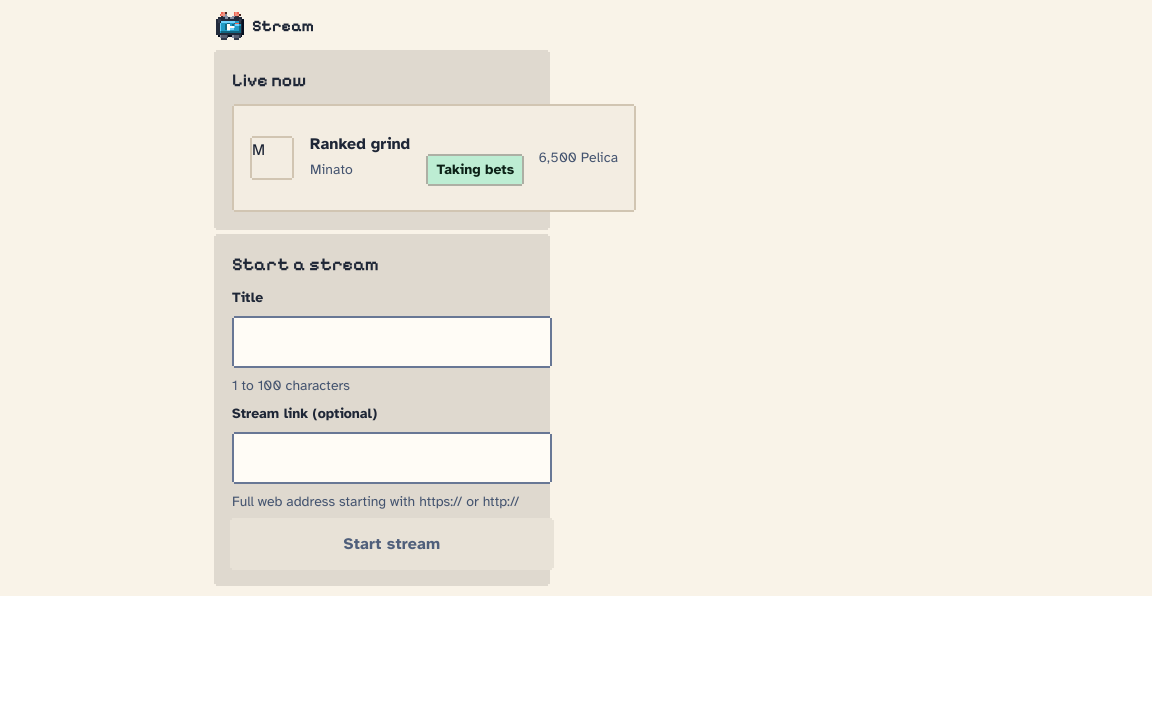
StreamScreen › shows live list, opens stream room, uses SDK openExternalLink (never window.open) and shows location
The width and height of the screenshot is (1152, 720).
Later steps or results of the test are not shown.
Click the button with class "bb-list__item": click(435, 159) x1=252 y1=134 x2=618 y2=184
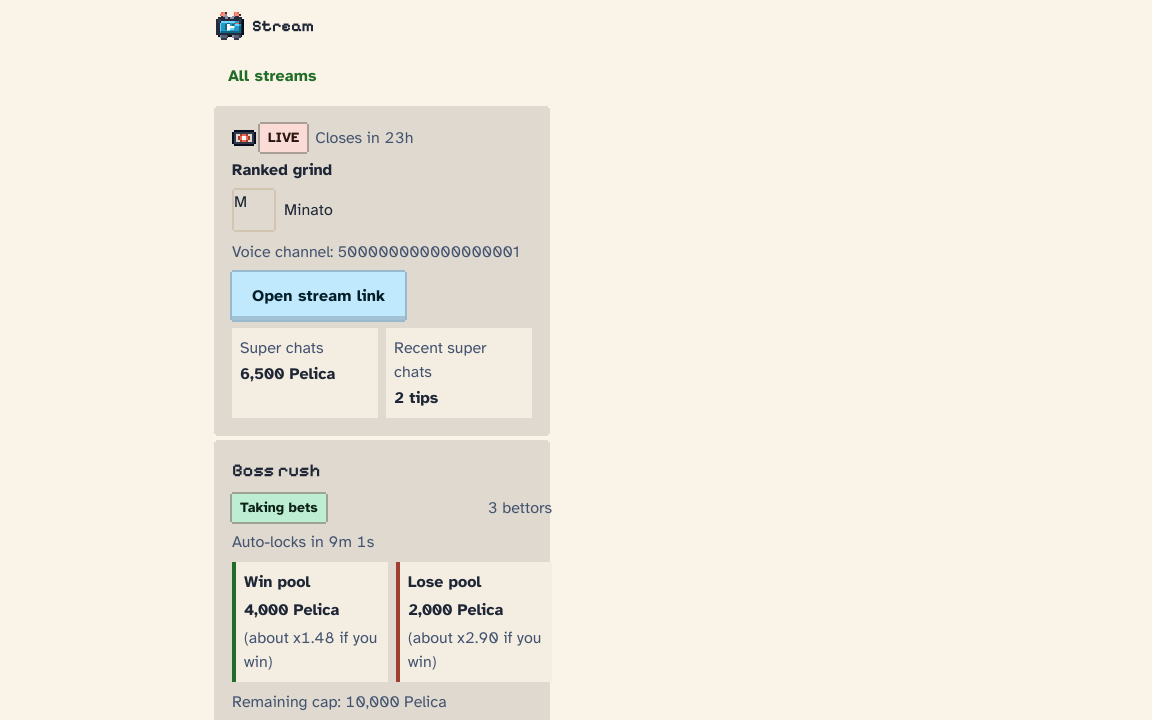
Result: the text with test id "stream-location" shows "500000000000000001" at x1=232 y1=242 x2=519 y2=262
Result: the text with test id "win-odds" shows "1.48" at x1=244 y1=628 x2=377 y2=672
Result: the text with test id "lose-odds" shows "2.90" at x1=408 y1=628 x2=541 y2=672
